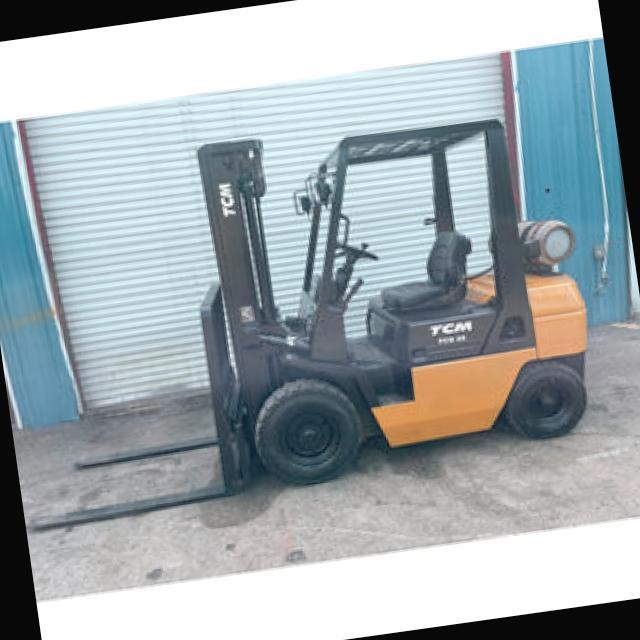forklift: (135, 91, 626, 510)
